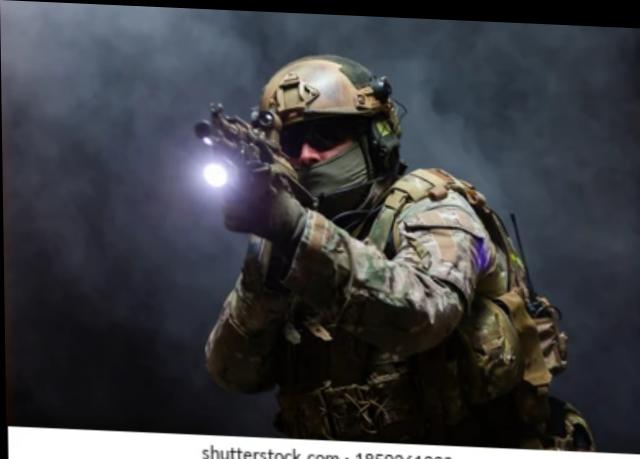other: (188, 40, 581, 444)
